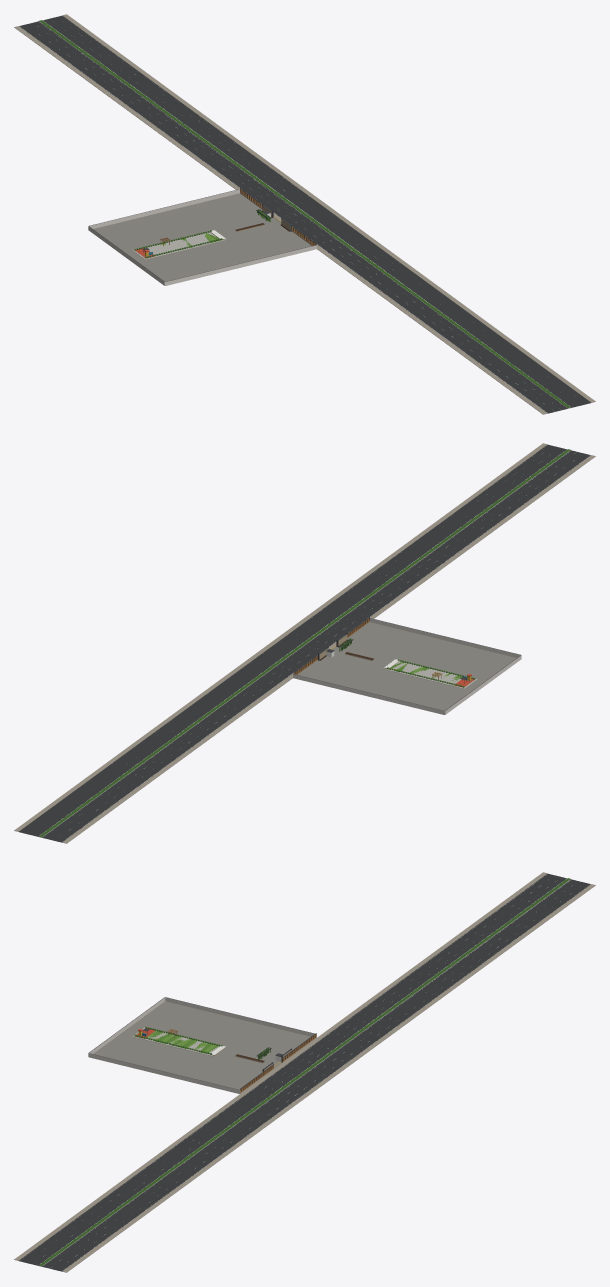
Rendered from site.glb.
3 views of the same model, one above another, from view 1: azimuth 30°, elevation 25°; view 2: azimuth 150°, elevation 25°; view 3: azimuth 330°, elevation 25° (orthographic).
Parts seen in each view (by area): view 1: campus; view 2: campus; view 3: campus.
Boxes of the visible parts, <box> form: campus: <box>14,14,595,414</box>; campus: <box>14,443,595,843</box>; campus: <box>14,872,595,1272</box>.
Size of the model in its own units: 116 by 5.97 by 520.
